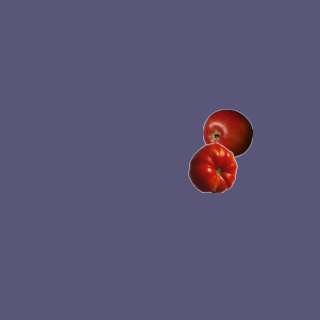Apple Braeburn: (202, 108, 252, 158)
Tomato 3: (187, 142, 237, 192)
